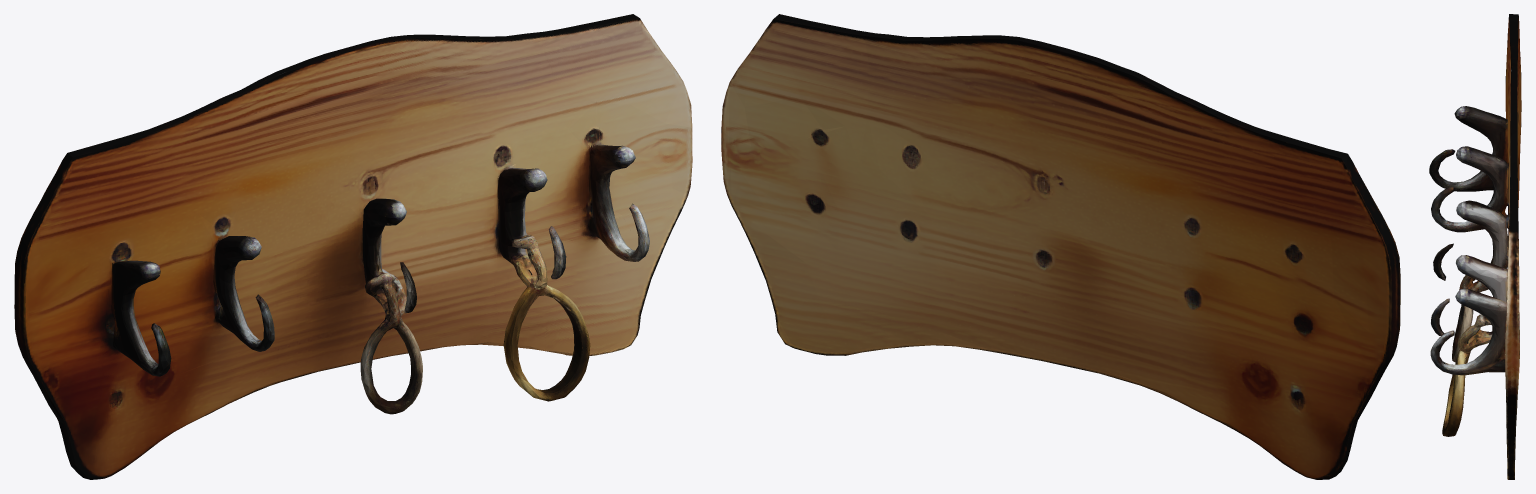
Rendered from wooden-magnetic-key-rack-rustic.jpeg.glb.
The picture shows the model from 3 angles, left to right: view 1: azimuth 30°, elevation 25°; view 2: azimuth 150°, elevation 25°; view 3: azimuth 270°, elevation 25°; orthographic projection. The views are drawn at different scales.
Parts seen in each view (by area): view 1: world; view 2: world; view 3: world.
Part boxes in pixels (bbox=[...]): world: bbox=[14, 14, 692, 479]; world: bbox=[721, 14, 1400, 479]; world: bbox=[1429, 14, 1521, 479].
Bounding box in the file's own units: 1 × 0.5262 × 0.1525.
1 material, 1 textured.
